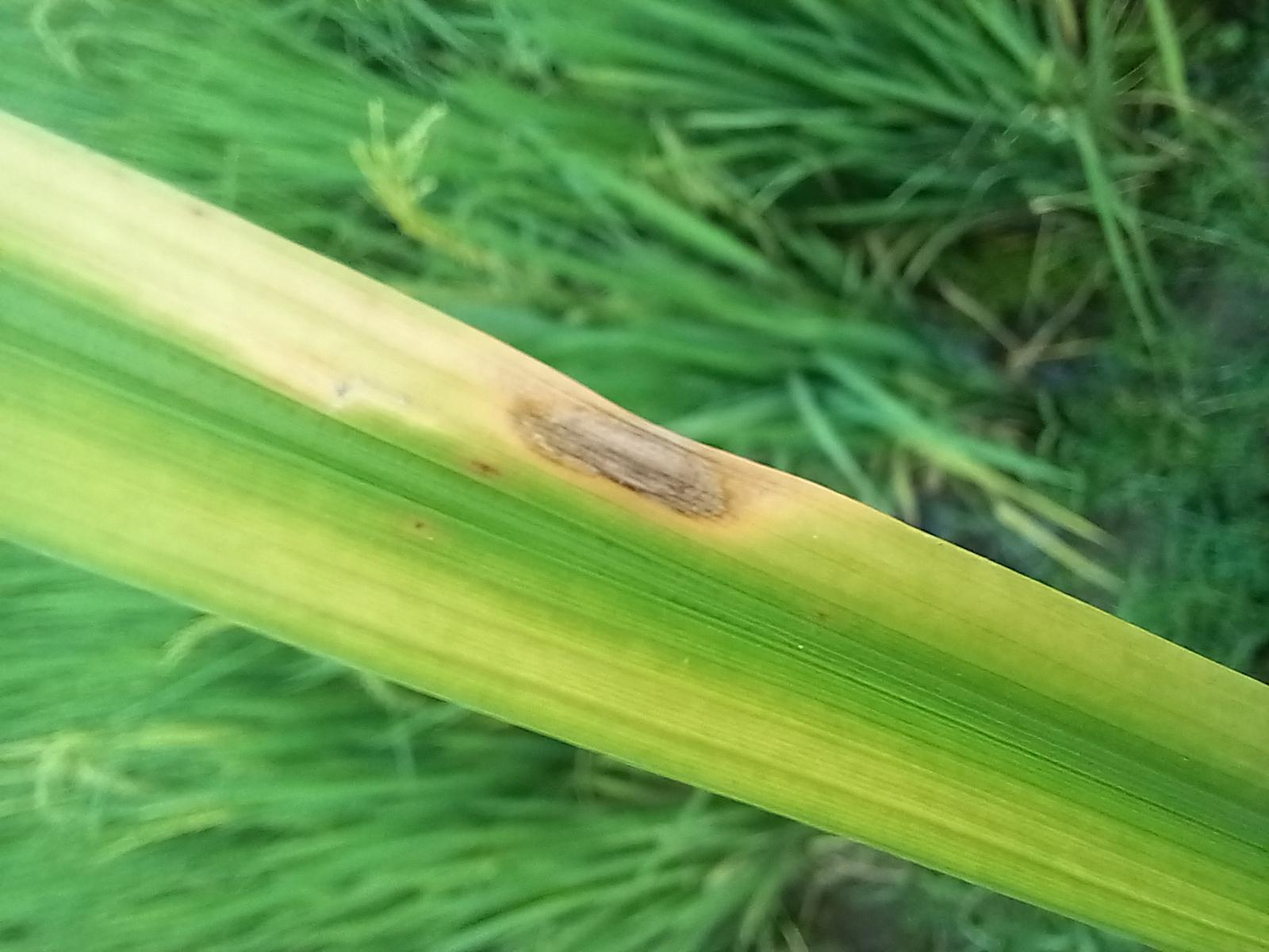LEAF BLAST: (578, 388, 724, 544)
